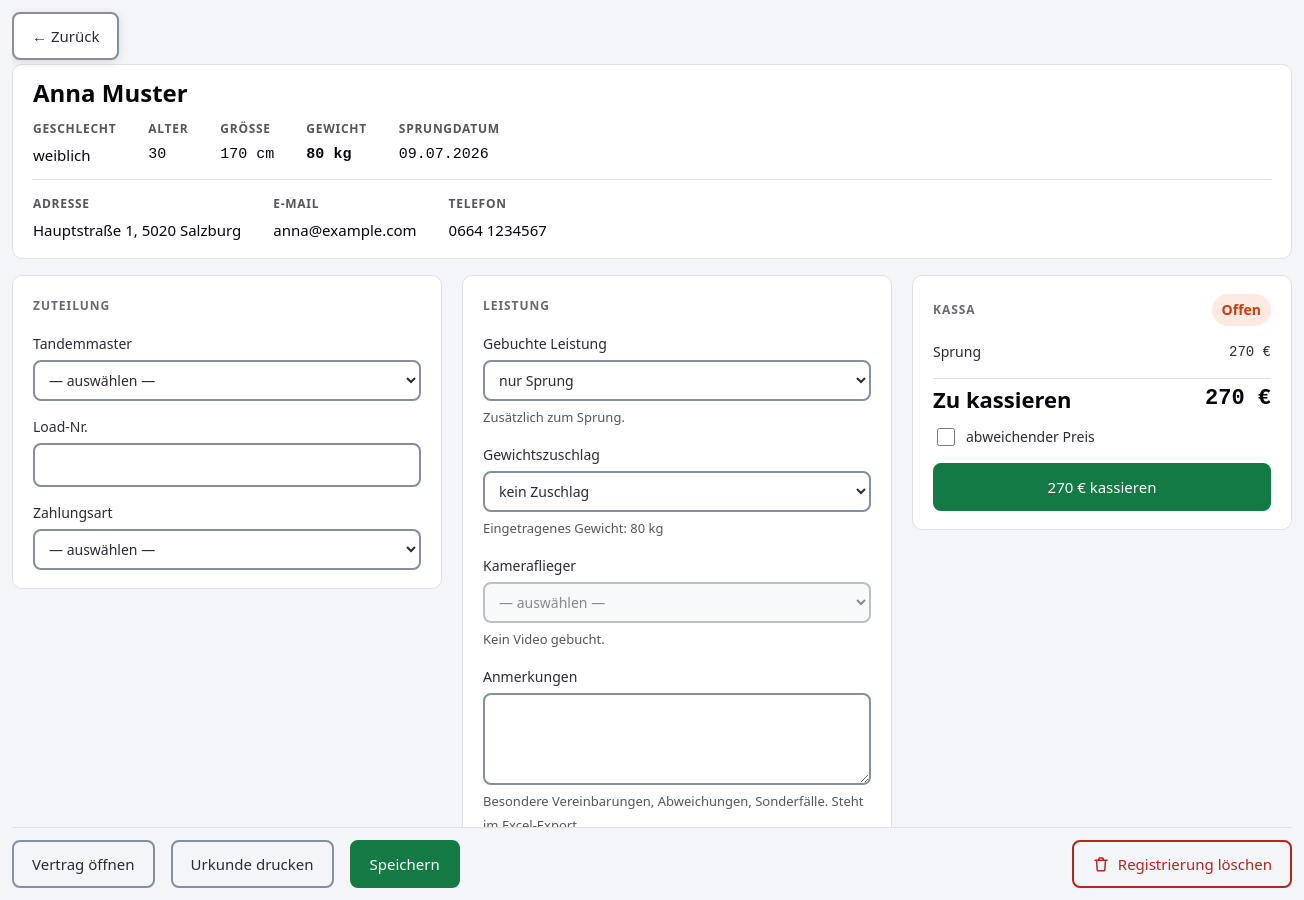
Test case: Detail › costs nothing when the voucher is used exactly as issued
The width and height of the screenshot is (1304, 900).
Check: the text "Zu kassieren" is shown, box 933,387 -> 1071,411
Select "Gutschein" in the dropdown labelled "Zahlungsart" at (227, 550), box 33,529 -> 421,570
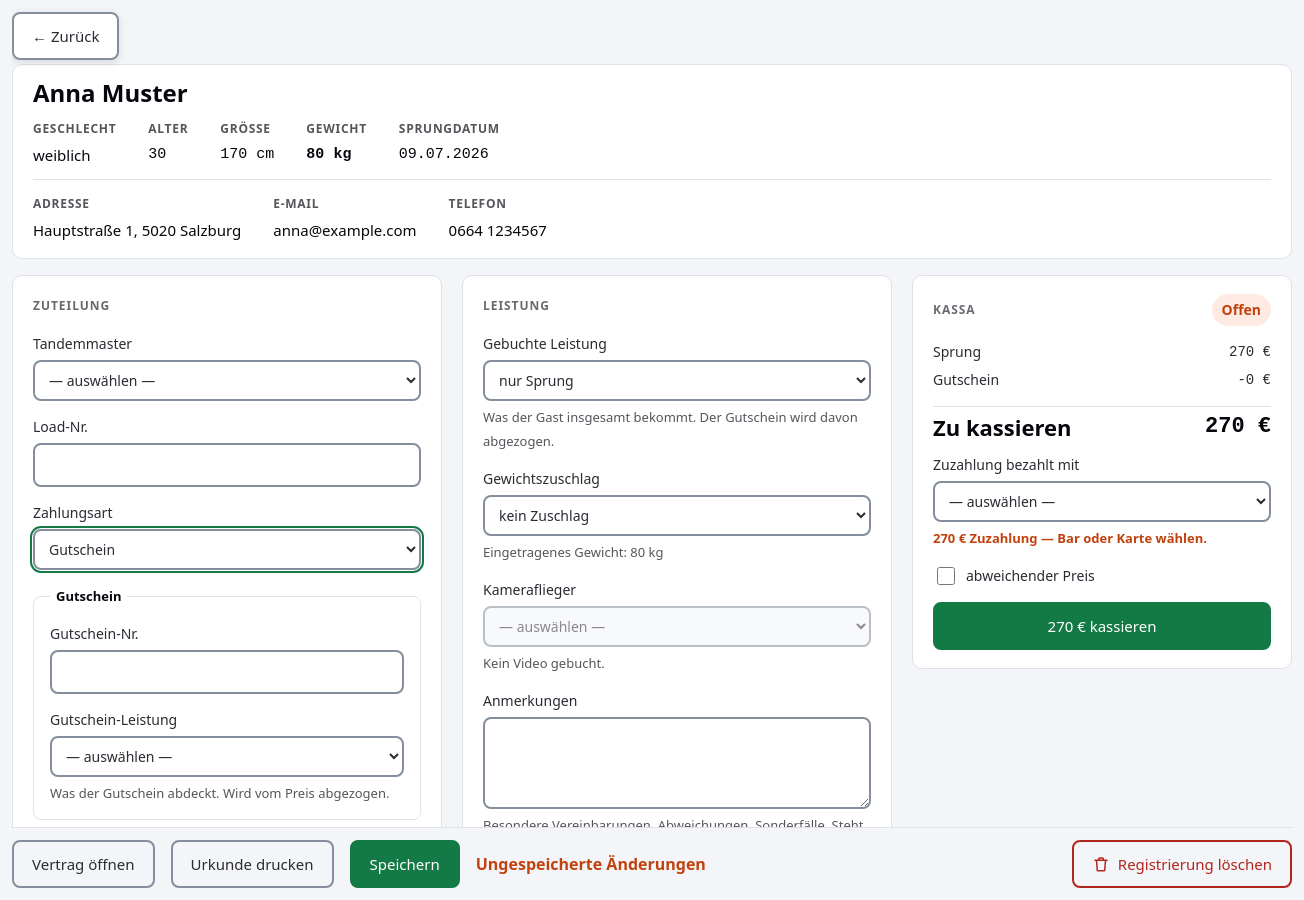
Select "Sprung+Video" in the dropdown labelled "Gutschein-Leistung" at (227, 756), box 50,736 -> 404,777
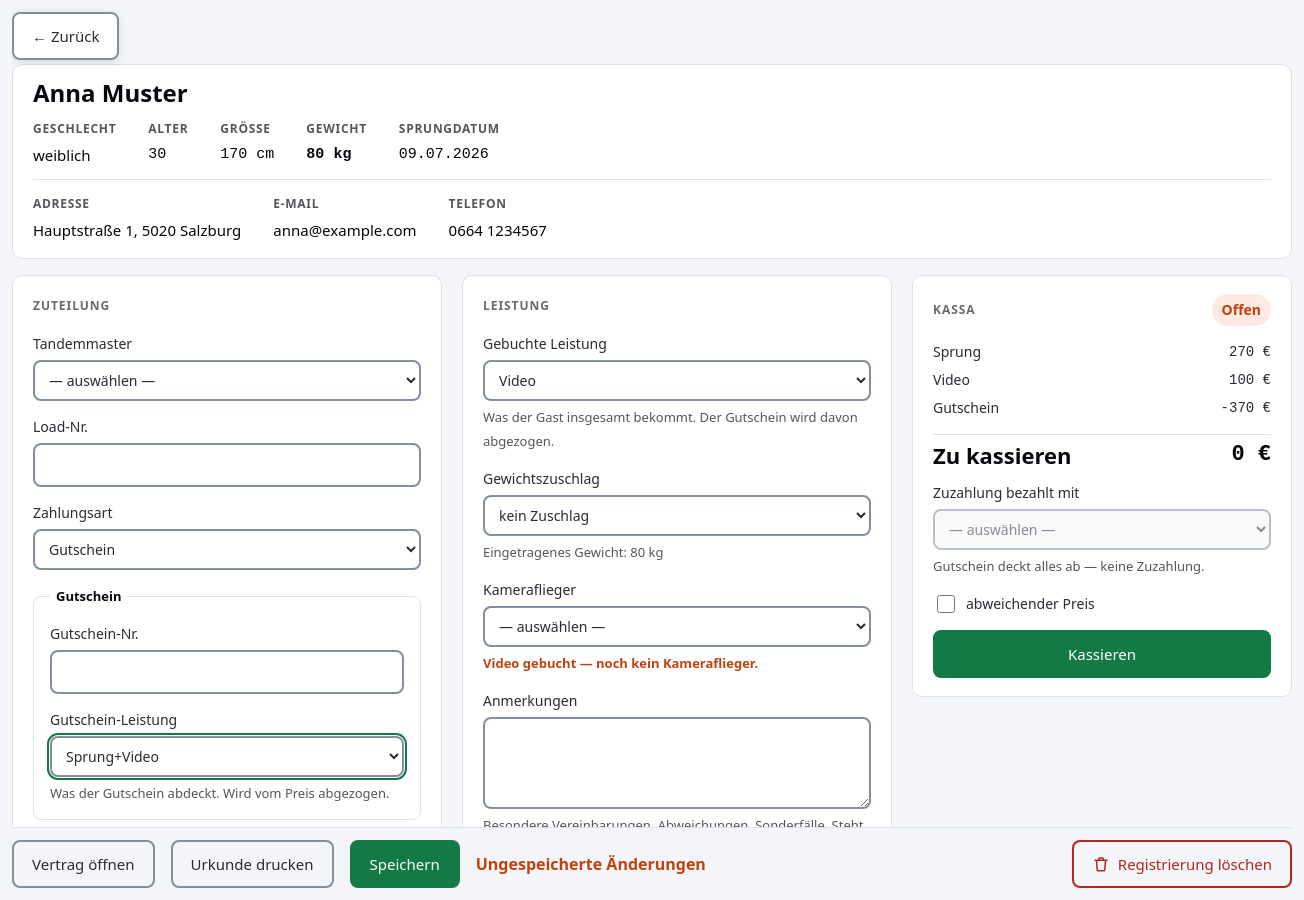
Check: the dropdown labelled "Gebuchte Leistung" shows "Video", box 483,360 -> 871,401
